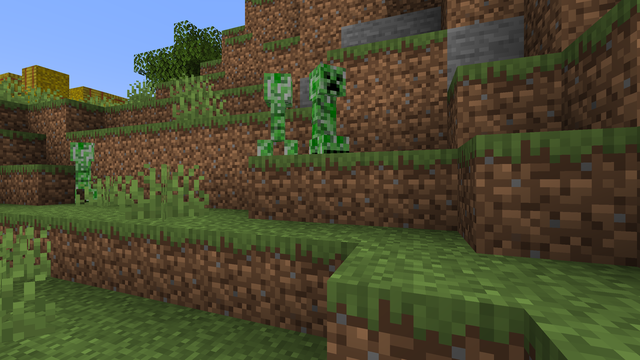creepers: (305, 57, 344, 139), (257, 66, 298, 141), (67, 138, 94, 202)
